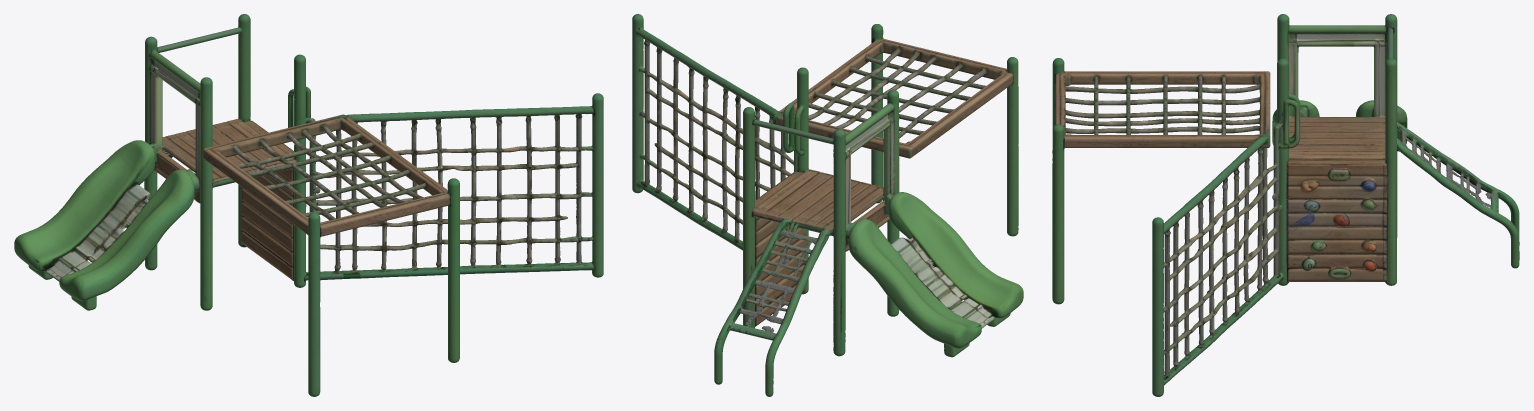
Rendered from Multi.glb.
3 views of the same model, side by side, from view 1: azimuth 30°, elevation 25°; view 2: azimuth 150°, elevation 25°; view 3: azimuth 270°, elevation 25° (orthographic). The views are drawn at different scales.
Parts seen in each view (by area): view 1: tripo_node_8b621bee-75be-43d7-92fd-611c3735d3f3; view 2: tripo_node_8b621bee-75be-43d7-92fd-611c3735d3f3; view 3: tripo_node_8b621bee-75be-43d7-92fd-611c3735d3f3.
Part boxes in pixels (x1,y1,x2,y2): tripo_node_8b621bee-75be-43d7-92fd-611c3735d3f3: (14, 14, 603, 396); tripo_node_8b621bee-75be-43d7-92fd-611c3735d3f3: (632, 14, 1023, 396); tripo_node_8b621bee-75be-43d7-92fd-611c3735d3f3: (1052, 14, 1519, 396).
Bounding box in the file's own units: 1 × 0.4789 × 0.895.
Materials: 1 (1 with a texture image).
